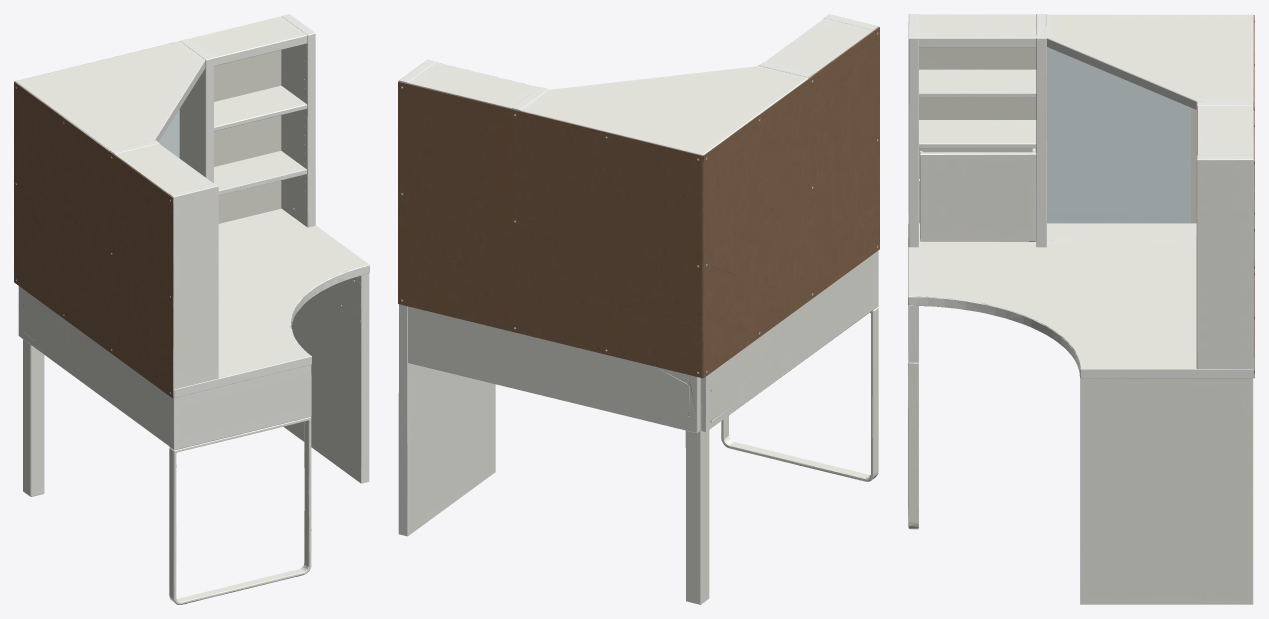
The picture shows the model from 3 angles, left to right: view 1: azimuth 30°, elevation 25°; view 2: azimuth 150°, elevation 25°; view 3: azimuth 270°, elevation 25°; orthographic projection. The views are drawn at different scales.
Parts seen in each view (by area): view 1: model; view 2: model; view 3: model.
Part boxes in pixels (<box>): model: <box>14,14,369,604</box>; model: <box>398,14,879,604</box>; model: <box>908,14,1254,604</box>.
Bounding box in the file's own units: 0.9999 × 1.42 × 0.9999.
1 material, 1 textured.
